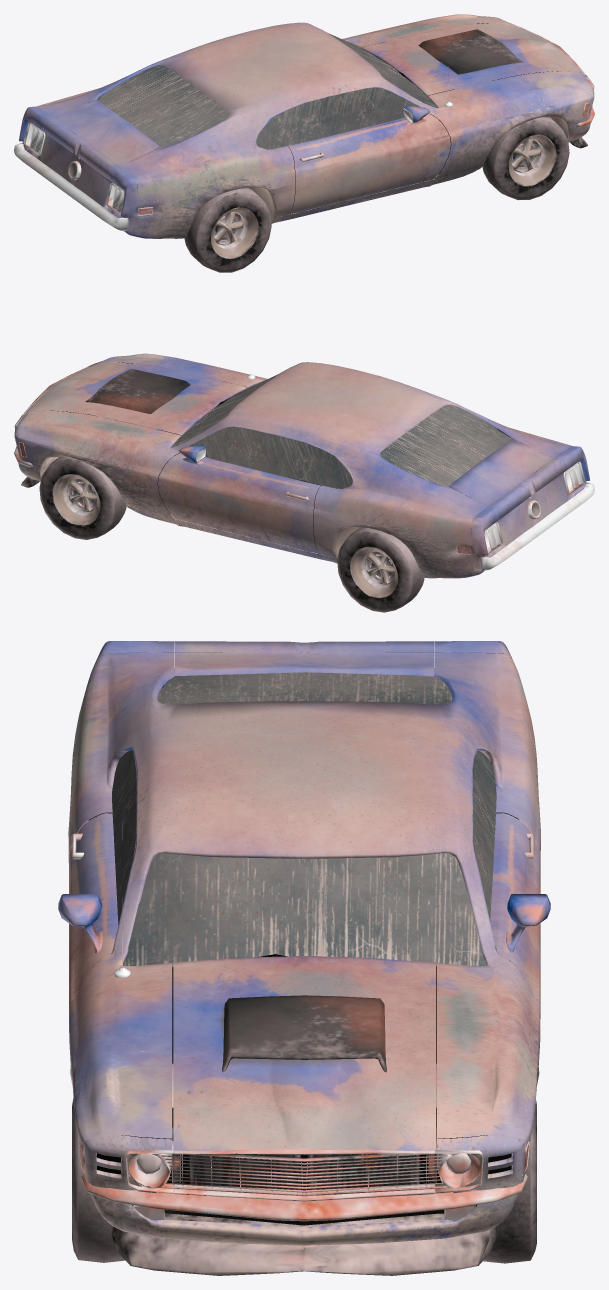
Rendered from Damaged_Mustang_Compressed.fbx.
The picture shows the model from 3 angles, top to bottom: view 1: azimuth 30°, elevation 25°; view 2: azimuth 150°, elevation 25°; view 3: azimuth 270°, elevation 25°; orthographic projection. The views are drawn at different scales.
Parts seen in each view (by area): view 1: geo_mustang_exterior_low, geo_mustang_glass_low, geo_tire_fl_low, geo_mustang_parts_low; view 2: geo_mustang_exterior_low, geo_mustang_glass_low, geo_tire_fl_low, geo_mustang_parts_low; view 3: geo_mustang_exterior_low, geo_mustang_parts_low, geo_mustang_glass_low, geo_tire_fl_low.
Boxes of the visible parts, bbox=[...] form: geo_mustang_exterior_low: bbox=[19, 14, 594, 238]; geo_mustang_glass_low: bbox=[96, 33, 436, 149]; geo_tire_fl_low: bbox=[108, 117, 569, 272]; geo_mustang_parts_low: bbox=[14, 23, 594, 231]; geo_mustang_exterior_low: bbox=[14, 353, 589, 578]; geo_mustang_glass_low: bbox=[172, 374, 512, 488]; geo_tire_fl_low: bbox=[39, 456, 474, 612]; geo_mustang_parts_low: bbox=[14, 361, 594, 570]; geo_mustang_exterior_low: bbox=[68, 641, 540, 1245]; geo_mustang_parts_low: bbox=[58, 822, 550, 1275]; geo_mustang_glass_low: bbox=[112, 672, 496, 966]; geo_tire_fl_low: bbox=[72, 1098, 536, 1263].
Size of the model in its own units: 3729 by 1284 by 1577.
